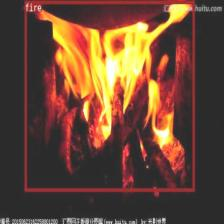fire: (24, 0, 194, 191)
